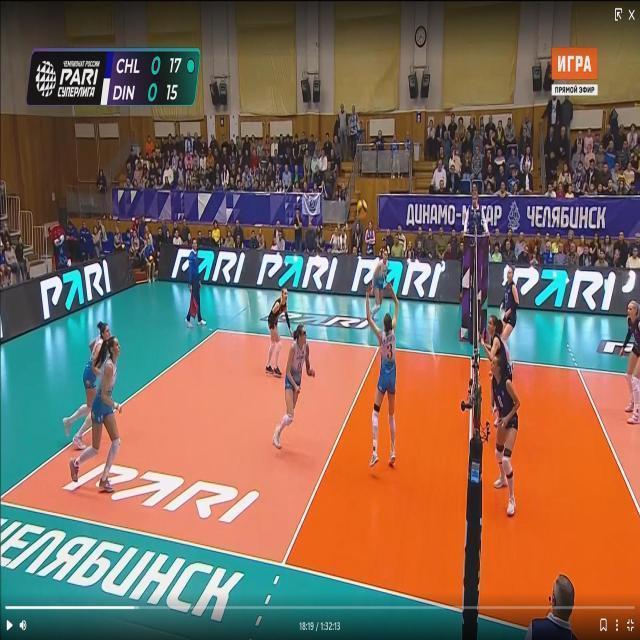volleyball: (356, 200, 368, 218)
